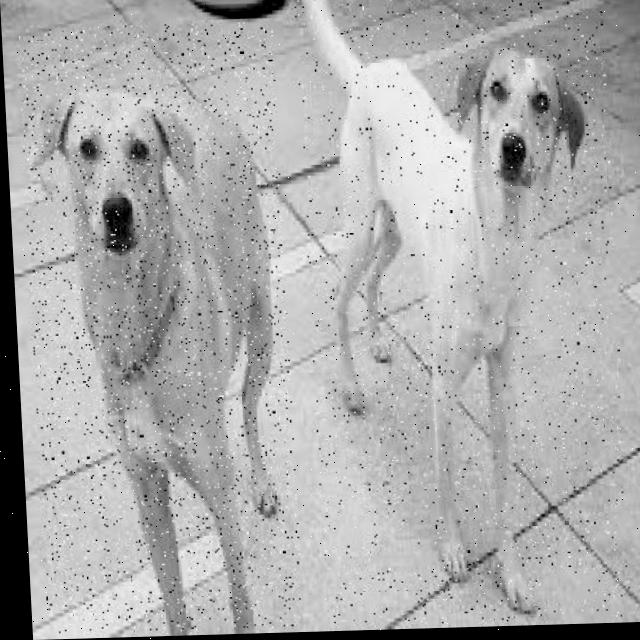Dog: (295, 0, 635, 628), (17, 21, 306, 636)
